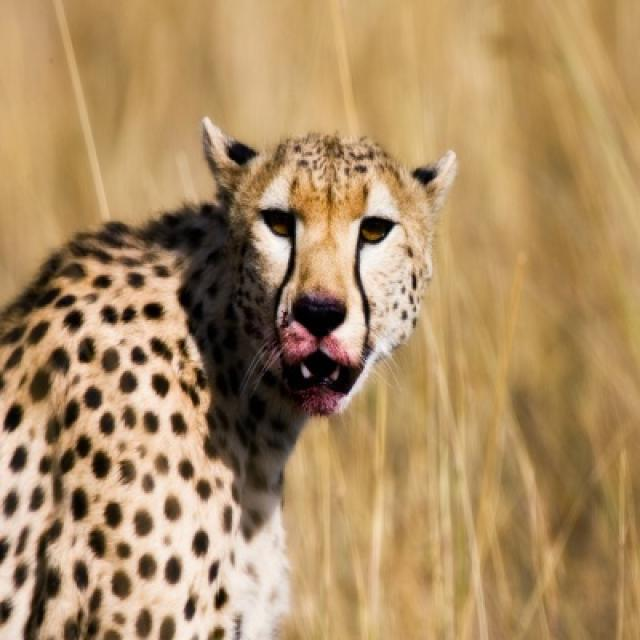Cheetah: (0, 118, 454, 638)
